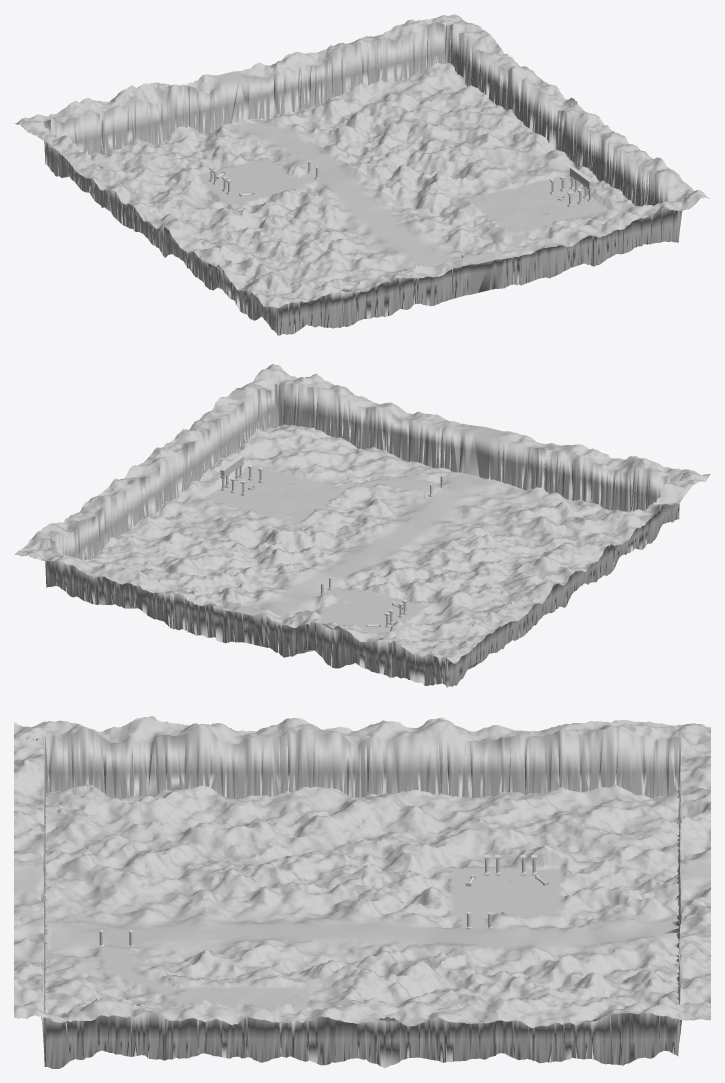
File: DesertRoad_CHK_OLD.fbx
3 views of the same model, one above another, from view 1: azimuth 30°, elevation 25°; view 2: azimuth 150°, elevation 25°; view 3: azimuth 270°, elevation 25° (orthographic). The views are drawn at different scales.
Parts seen in each view (by area): view 1: Desert_Road_Plane:polySurface1; view 2: Desert_Road_Plane:polySurface1; view 3: Desert_Road_Plane:polySurface1.
Boxes of the visible parts, bbox=[...] form: Desert_Road_Plane:polySurface1: bbox=[14, 14, 709, 335]; Desert_Road_Plane:polySurface1: bbox=[14, 364, 710, 687]; Desert_Road_Plane:polySurface1: bbox=[14, 716, 710, 1068].
Bounding box in the file's own units: 7.49 × 0.9666 × 7.49.
